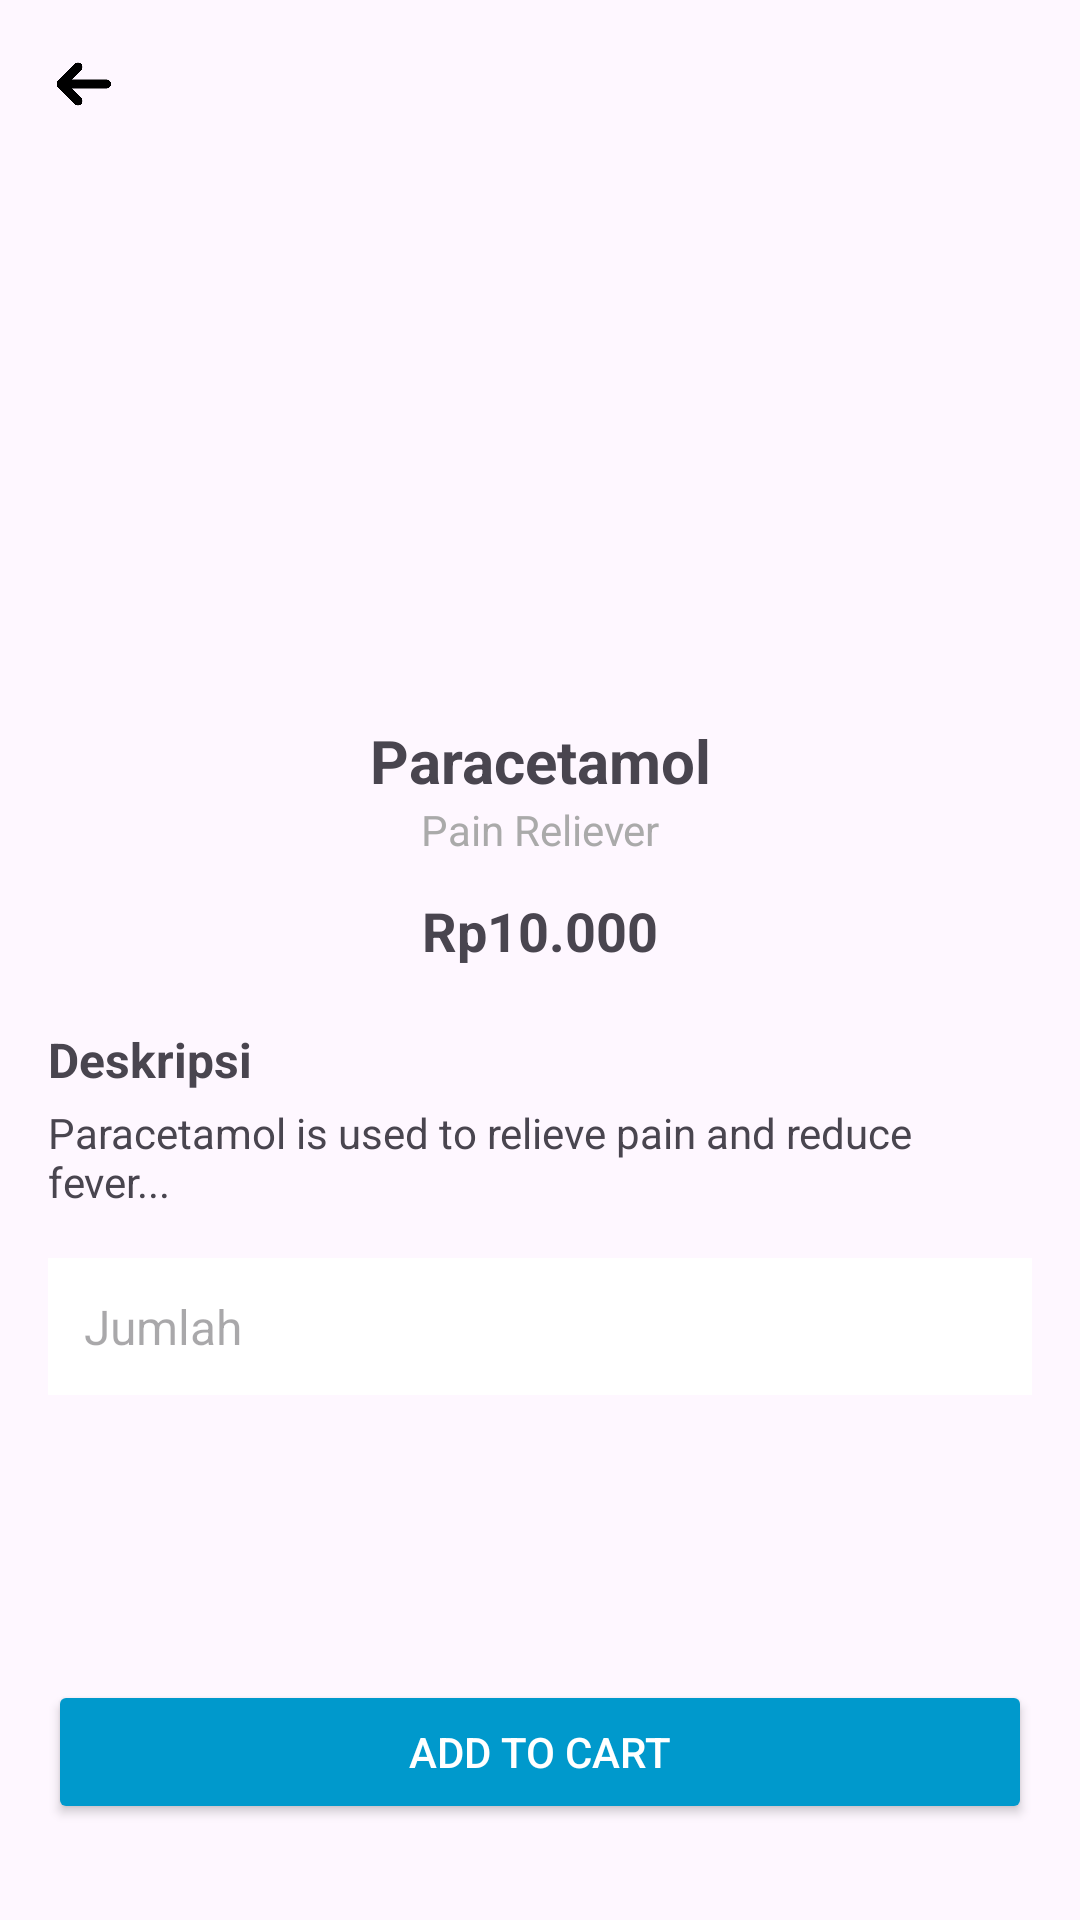

Named icons in this screenshot (1080x1920) and their centers, [x,y]:
Back: [84,84]
